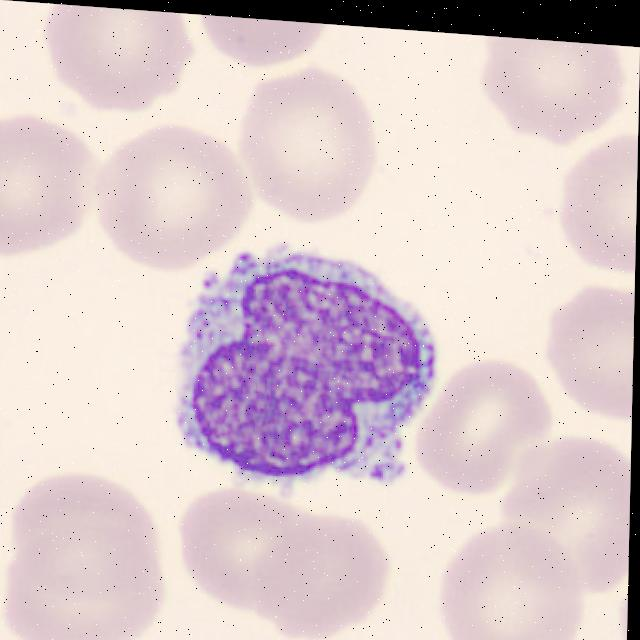monocyte: (139, 198, 473, 480)
rbc: (234, 71, 395, 230), (94, 114, 254, 269), (251, 494, 420, 640), (490, 420, 631, 593), (413, 358, 564, 509), (171, 480, 315, 621), (14, 509, 166, 640), (432, 513, 582, 640), (41, 3, 206, 117), (19, 470, 157, 605), (0, 114, 110, 276), (525, 272, 635, 426), (545, 120, 638, 282), (483, 36, 626, 138), (199, 15, 326, 83)
